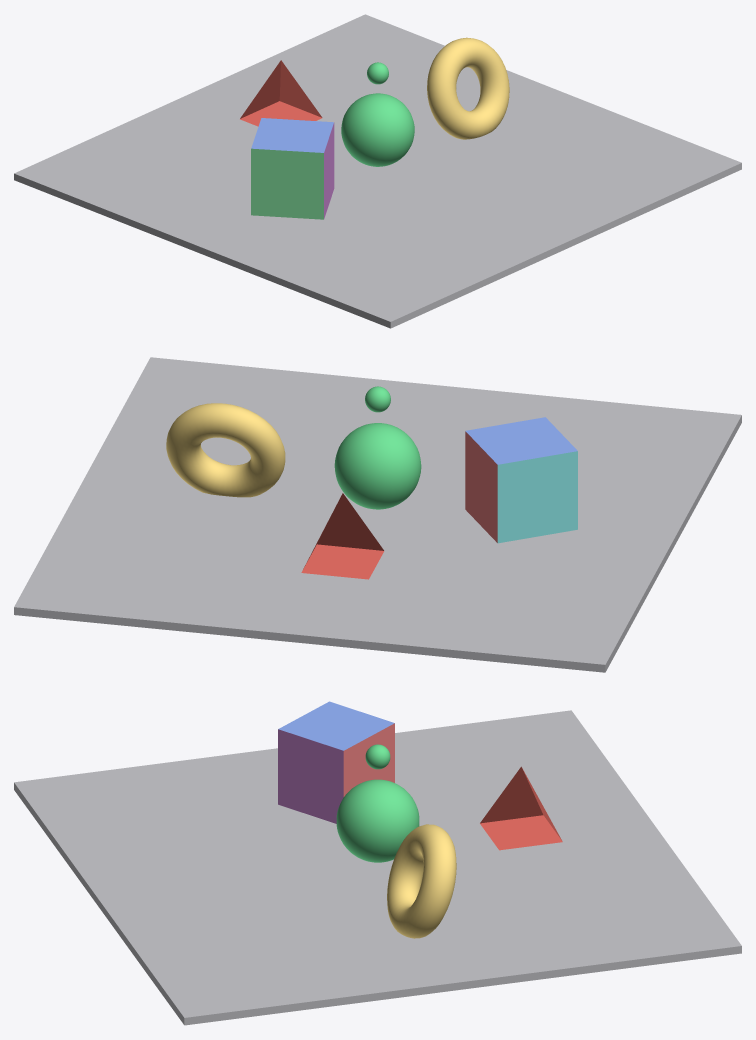
3 renders of one model, top to bottom at view 1: azimuth 30°, elevation 25°; view 2: azimuth 150°, elevation 25°; view 3: azimuth 270°, elevation 25°, orthographic. The views are drawn at different scales.
Visible parts, largest first — view 1: ground, cube, torus, sphere, pyramid; view 2: ground, cube, torus, sphere, pyramid, moon; view 3: ground, cube, torus, sphere, pyramid.
Boxes of the visible parts, x1=… form: ground: x1=14, y1=14, x2=741, y2=328; cube: x1=251, y1=118, x2=334, y2=219; torus: x1=427, y1=37, x2=509, y2=139; sphere: x1=341, y1=93, x2=414, y2=166; pyramid: x1=240, y1=60, x2=322, y2=126; ground: x1=14, y1=357, x2=741, y2=672; cube: x1=465, y1=417, x2=577, y2=543; torus: x1=166, y1=403, x2=285, y2=497; sphere: x1=334, y1=423, x2=421, y2=509; pyramid: x1=301, y1=493, x2=384, y2=579; moon: x1=365, y1=386, x2=390, y2=412; ground: x1=14, y1=710, x2=741, y2=1025; cube: x1=278, y1=701, x2=394, y2=823; torus: x1=387, y1=824, x2=456, y2=938; sphere: x1=336, y1=779, x2=419, y2=862; pyramid: x1=480, y1=766, x2=562, y2=850.
Size of the model in its own units: 8.74 by 1.67 by 8.74.
